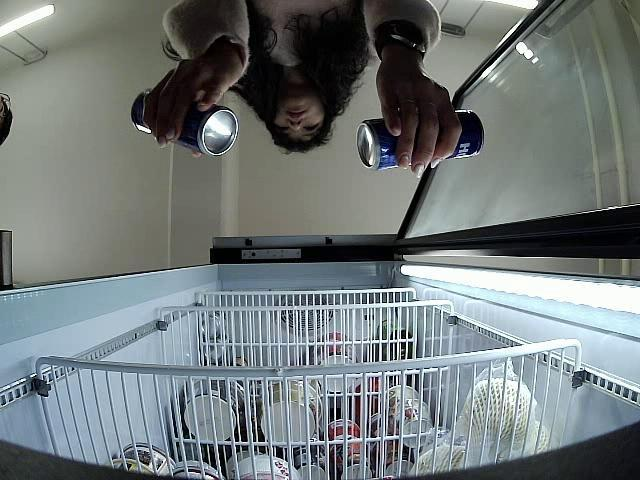16_hot6: (356, 109, 486, 172), (130, 89, 238, 158)
